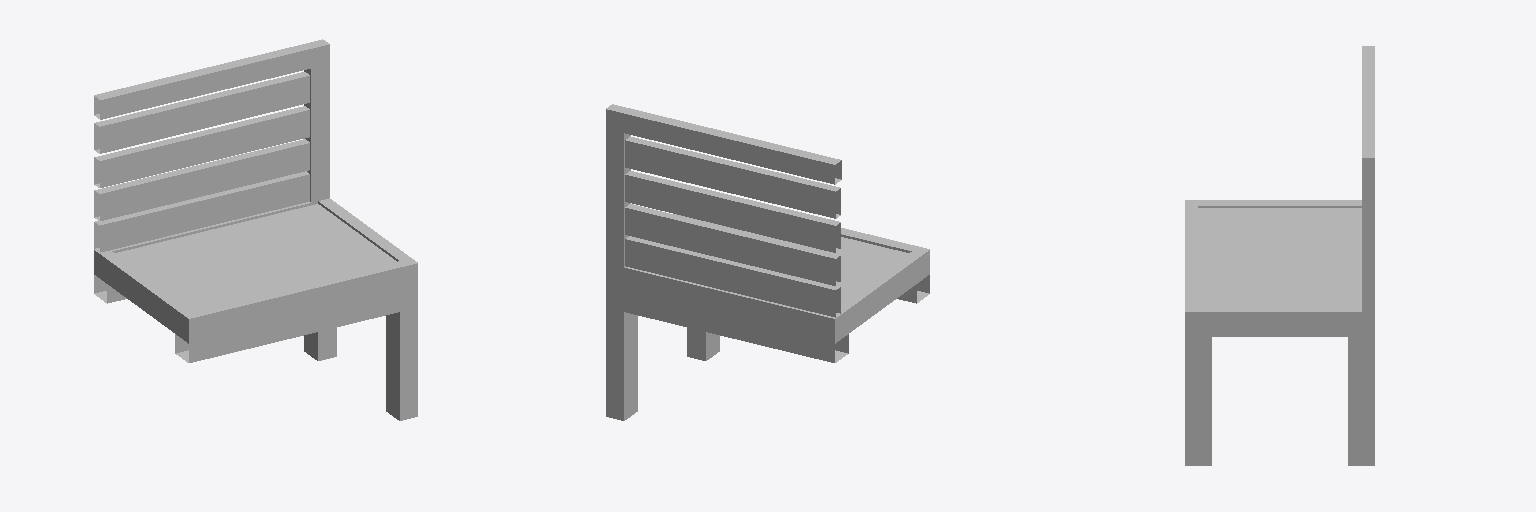
The model's file is benchrightx+.obj.
The picture shows the model from 3 angles: view 1: azimuth 30°, elevation 25°; view 2: azimuth 150°, elevation 25°; view 3: azimuth 270°, elevation 25°; orthographic projection.
Visible parts, largest first — view 1: chair_bedx+.042; view 2: chair_bedx+.042; view 3: chair_bedx+.042.
Part boxes in pixels (x1,y1,x2,y2): chair_bedx+.042: (94,39,417,420); chair_bedx+.042: (606,104,929,420); chair_bedx+.042: (1185,46,1374,465).
Bounding box in the file's own units: 0.9737 × 1.25 × 0.7.